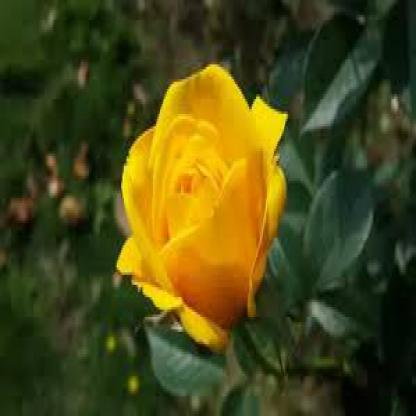Rose-Mawar: (113, 58, 291, 353)
